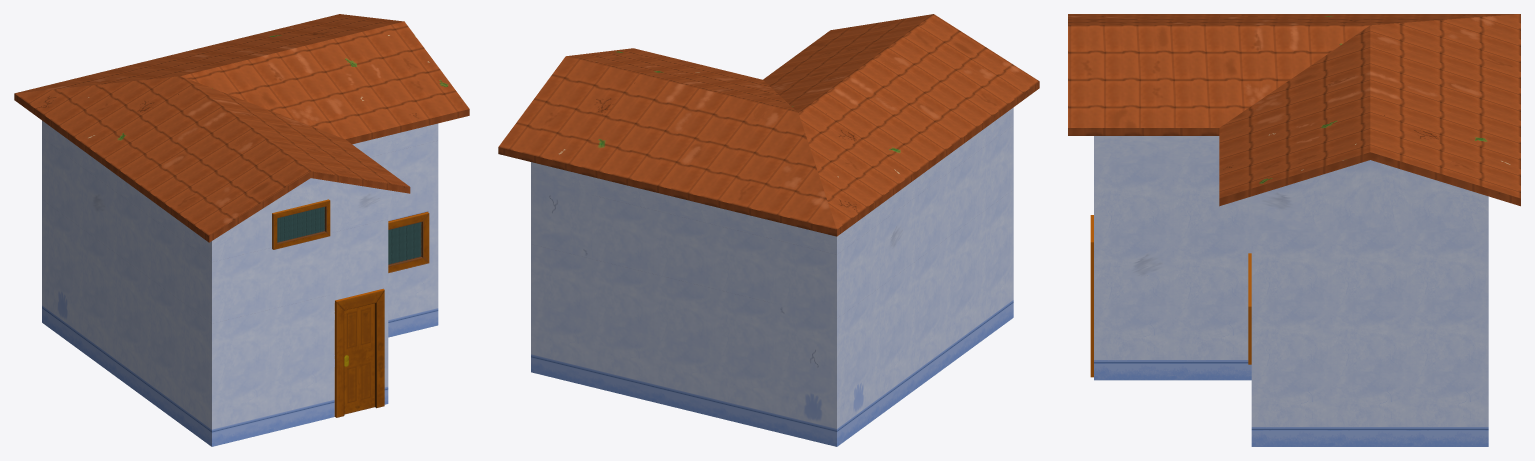
File: Houses_SuburbanHouseWhite2.fbx
3 renders of one model, left to right at view 1: azimuth 30°, elevation 25°; view 2: azimuth 150°, elevation 25°; view 3: azimuth 270°, elevation 25°, orthographic. The views are drawn at different scales.
Visible parts, largest first — view 1: House2.2; view 2: House2.2; view 3: House2.2.
Boxes of the visible parts, x1,y1,x2,y2 form: House2.2: (14,14,469,446); House2.2: (498,14,1039,446); House2.2: (1068,14,1520,446).
Size of the model in its own units: 512 by 395 by 531.
1 material, 1 textured.
